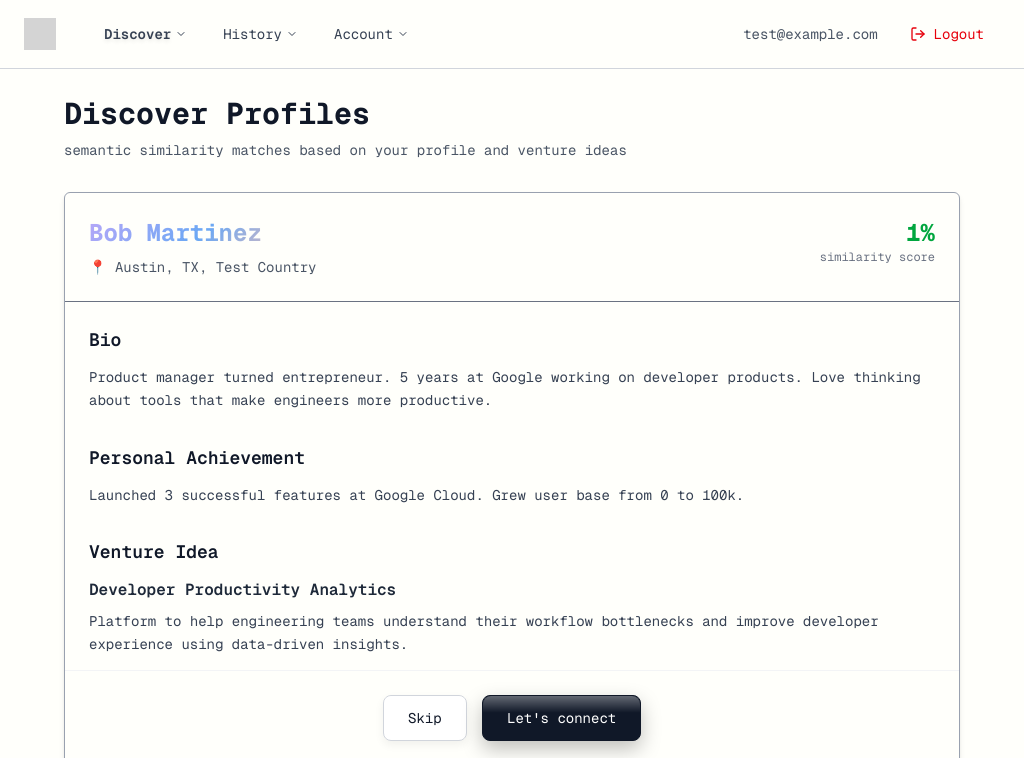
Test: MatchesPage Integration Tests › should automatically advance to next candidate after skip action
Expected: the heading "Bob Martinez" is shown, x1=89 y1=217 x2=316 y2=249
Click the button "Skip". click: (424, 718)
box: x1=383 y1=695 x2=466 y2=741
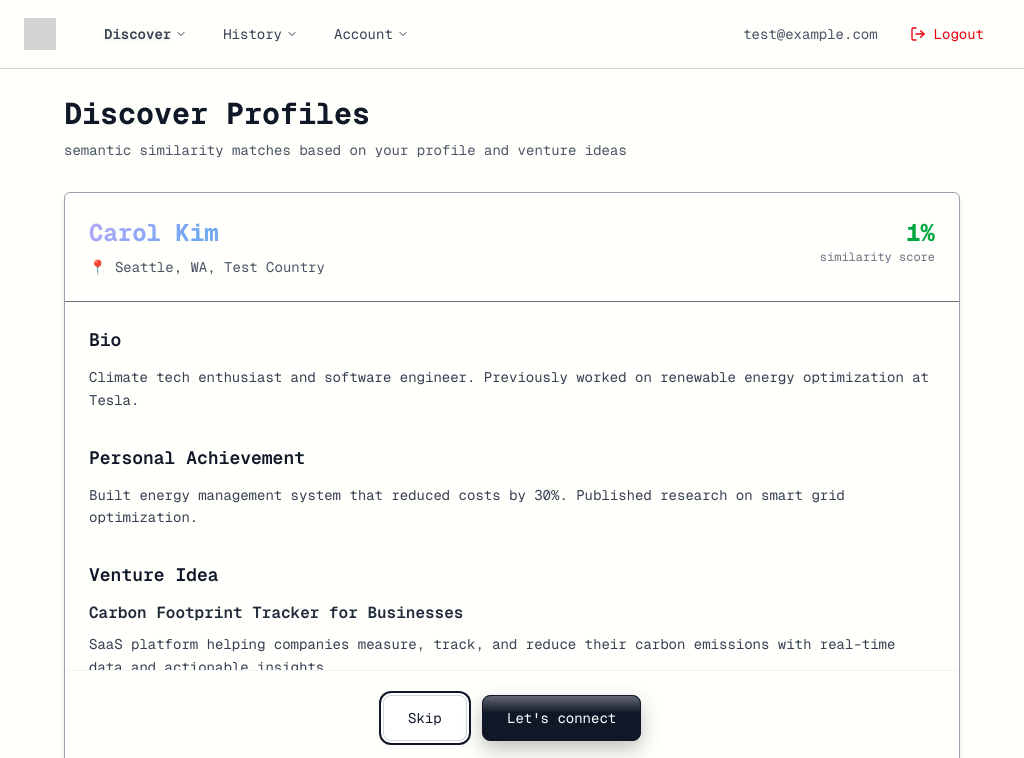
Expected: the heading "Carol Kim" is shown, x1=89 y1=217 x2=325 y2=249
